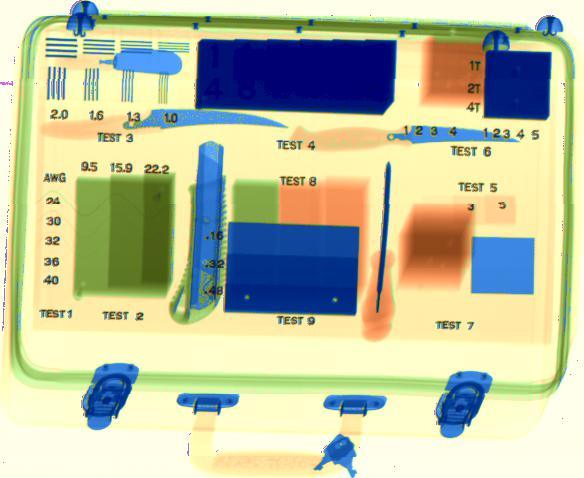Knife: (39, 107, 290, 140), (291, 119, 520, 153), (95, 50, 185, 76)
